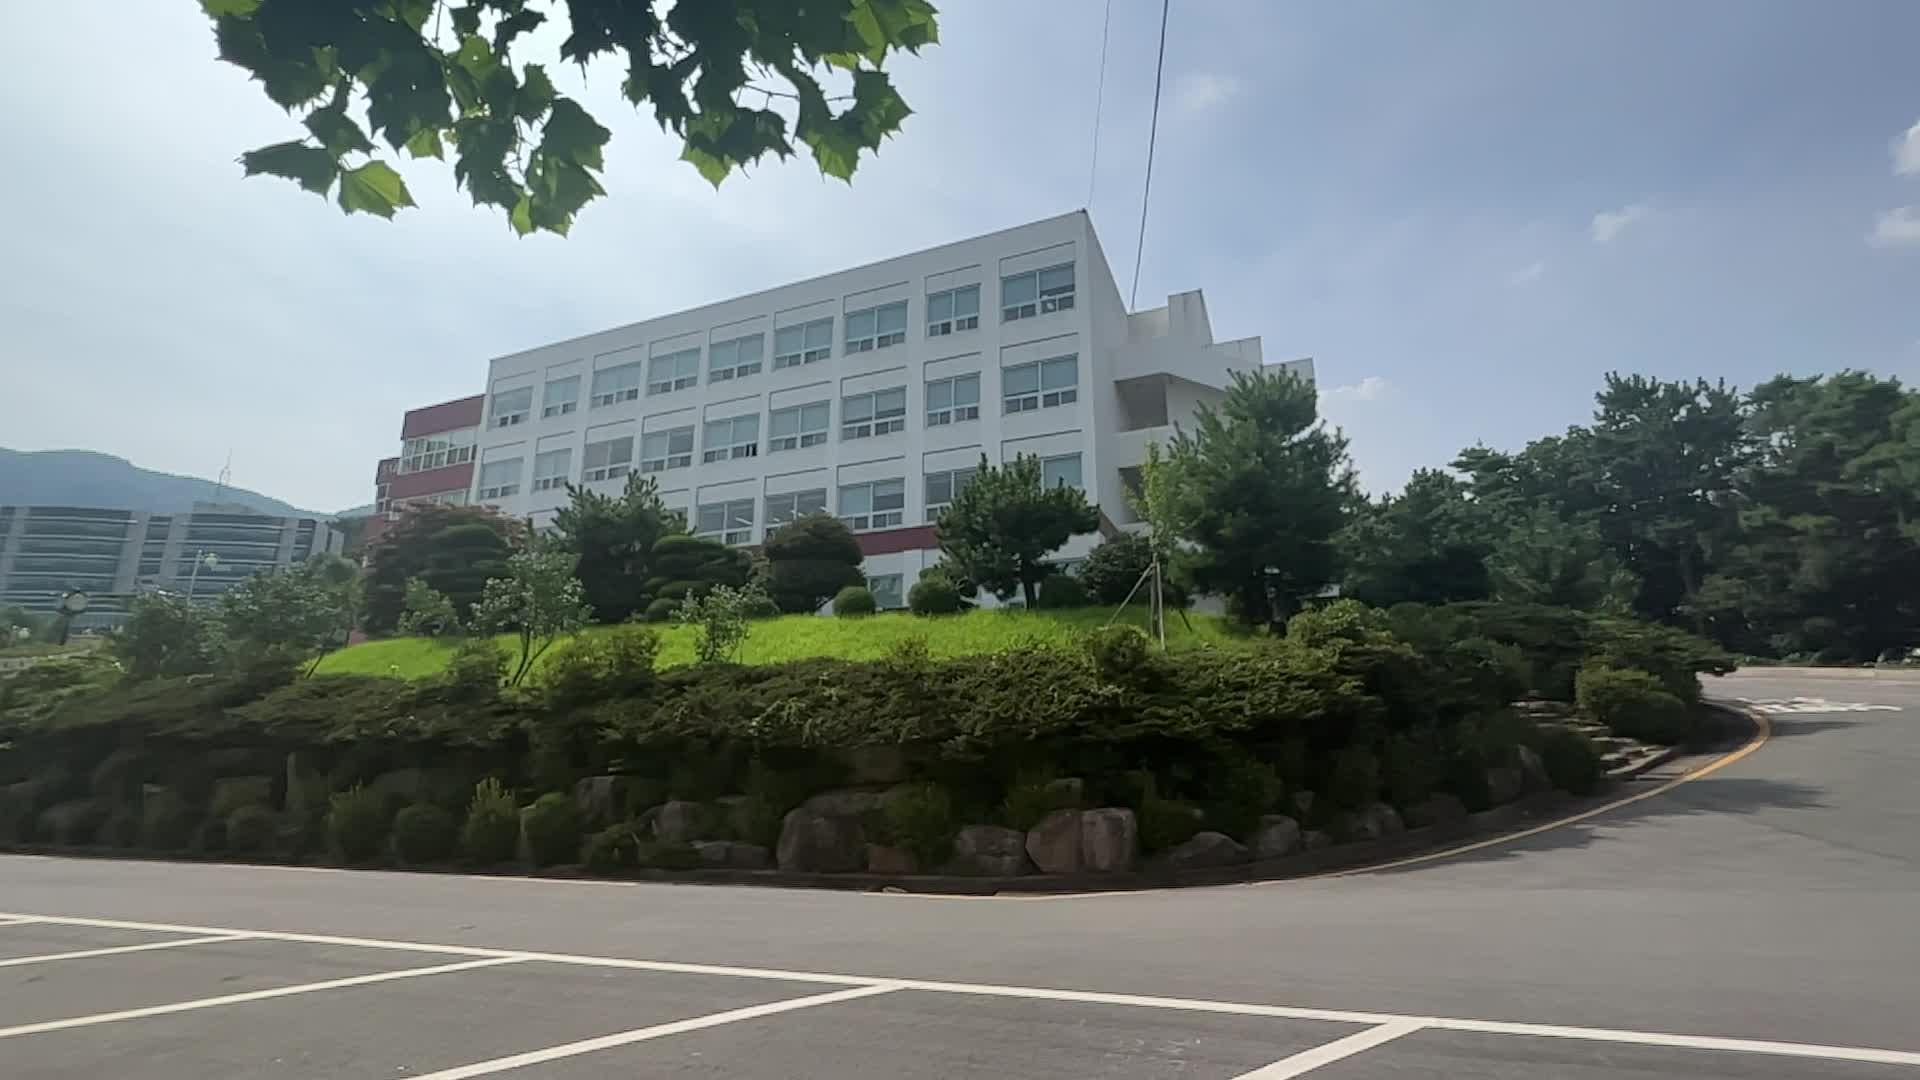building: (315, 257, 1142, 506)
